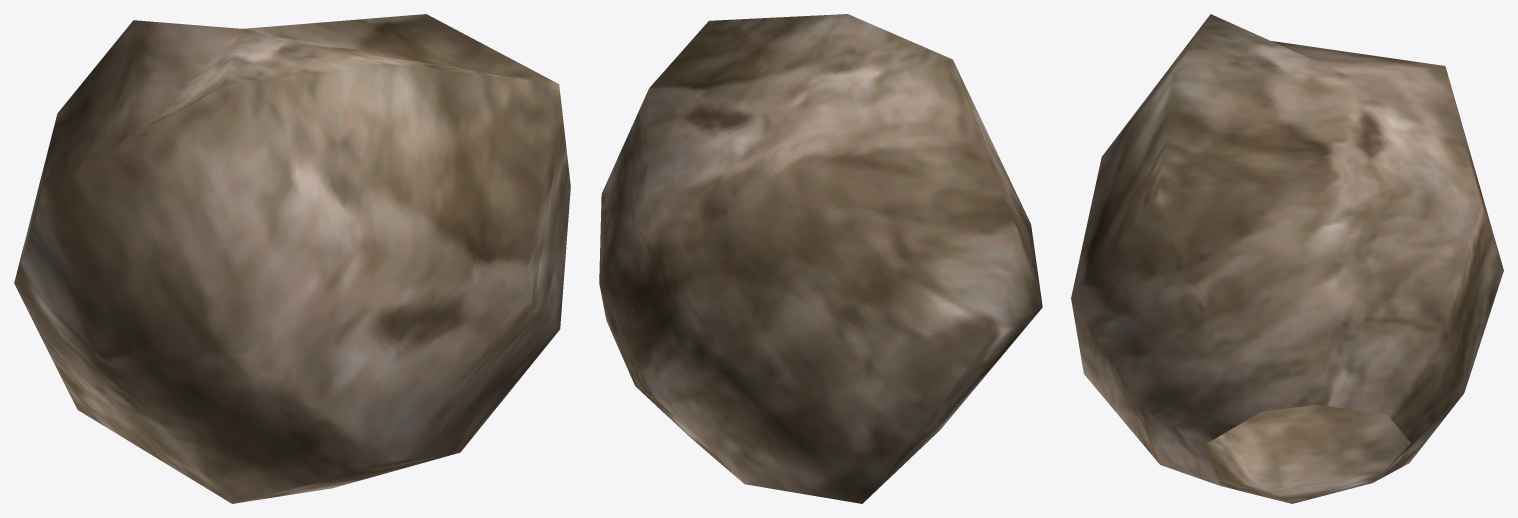
The model's file is OVERHILL_A_01_ROCK87.fbx.
3 views of the same model, side by side, from view 1: azimuth 30°, elevation 25°; view 2: azimuth 150°, elevation 25°; view 3: azimuth 270°, elevation 25° (orthographic). The views are drawn at different scales.
Parts seen in each view (by area): view 1: OVERHILL_A_01_ROCK87; view 2: OVERHILL_A_01_ROCK87; view 3: OVERHILL_A_01_ROCK87.
Part boxes in pixels (x1=…): OVERHILL_A_01_ROCK87: x1=14, y1=14, x2=570, y2=503; OVERHILL_A_01_ROCK87: x1=599, y1=14, x2=1042, y2=503; OVERHILL_A_01_ROCK87: x1=1071, y1=14, x2=1503, y2=503.
Size of the model in its own units: 6402 by 5876 by 5529.
1 material, 1 textured.
